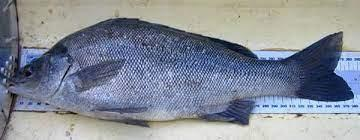Silver Perch: (7, 16, 356, 129)
